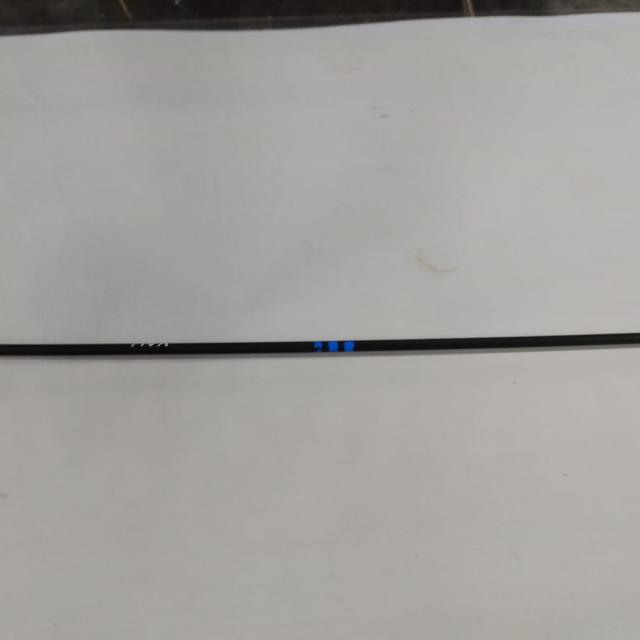blue: (314, 341, 355, 352)
